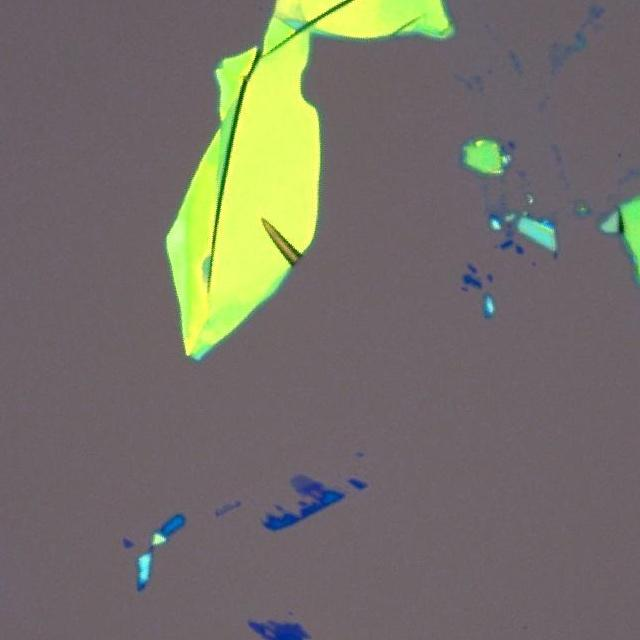monolayer-eWW4: (288, 472, 312, 491)
